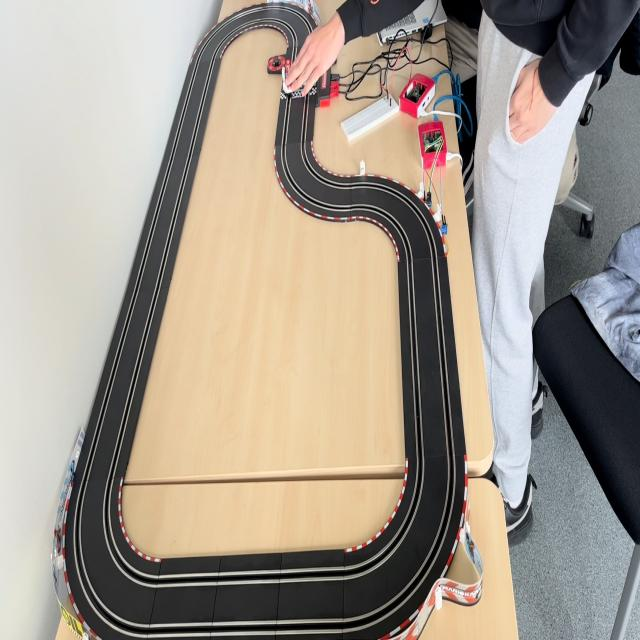mario: (280, 58, 297, 96)
